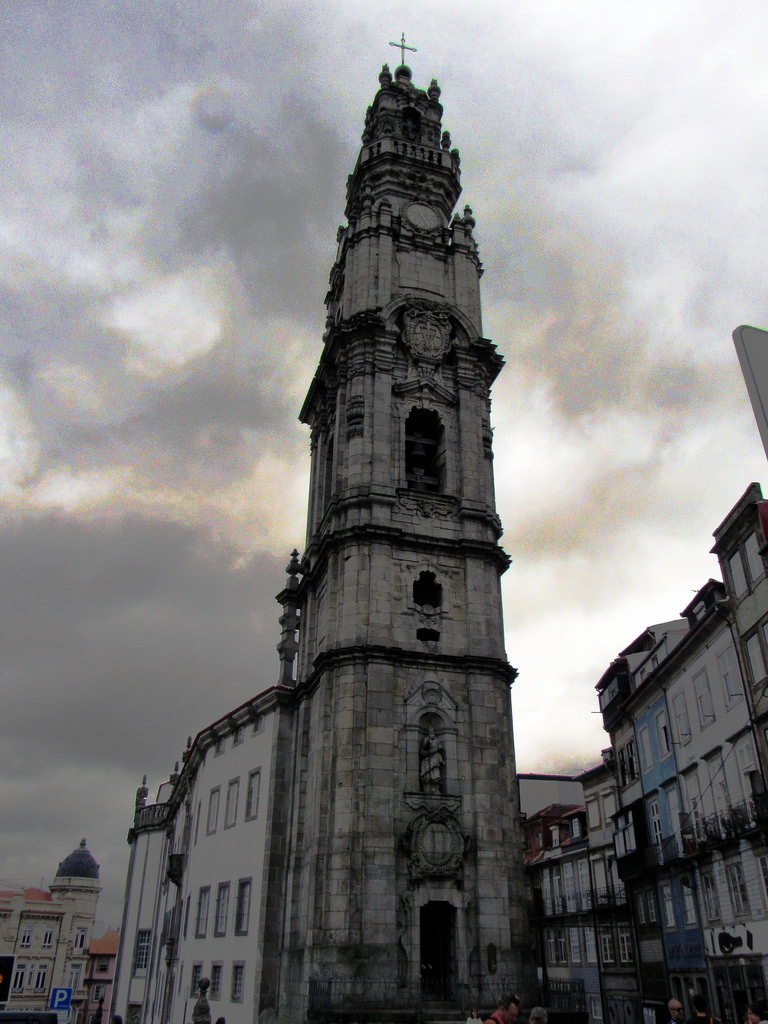clerigos: (267, 29, 541, 1008)
